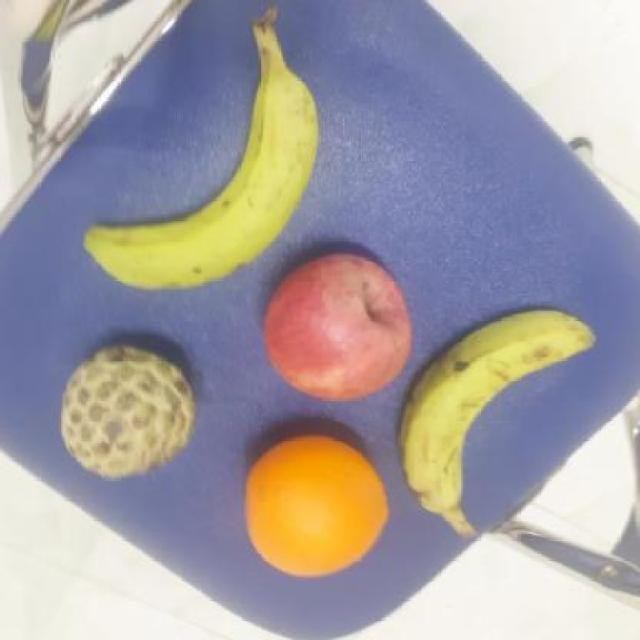apple: (254, 252, 415, 406)
banana: (75, 56, 337, 295), (401, 311, 607, 522)
oren: (237, 430, 389, 581)
sugar apple: (57, 337, 205, 478)
